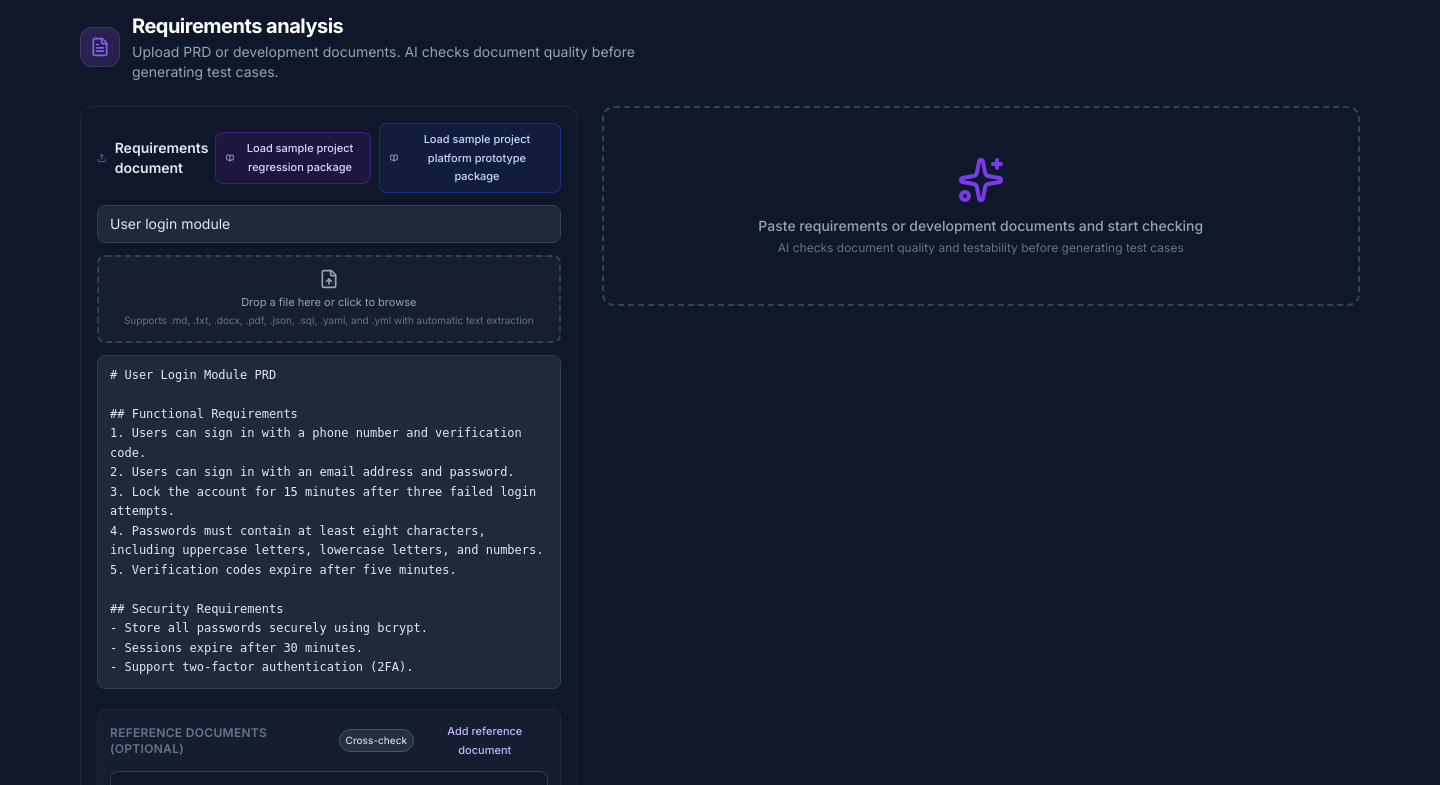
RequirementPage › should load sample_platform platform prototype playbook and show mapping summary
Click the button "Load sample project platform prototype package" at [470, 158], box top-left (379, 123), bottom-right (561, 193)
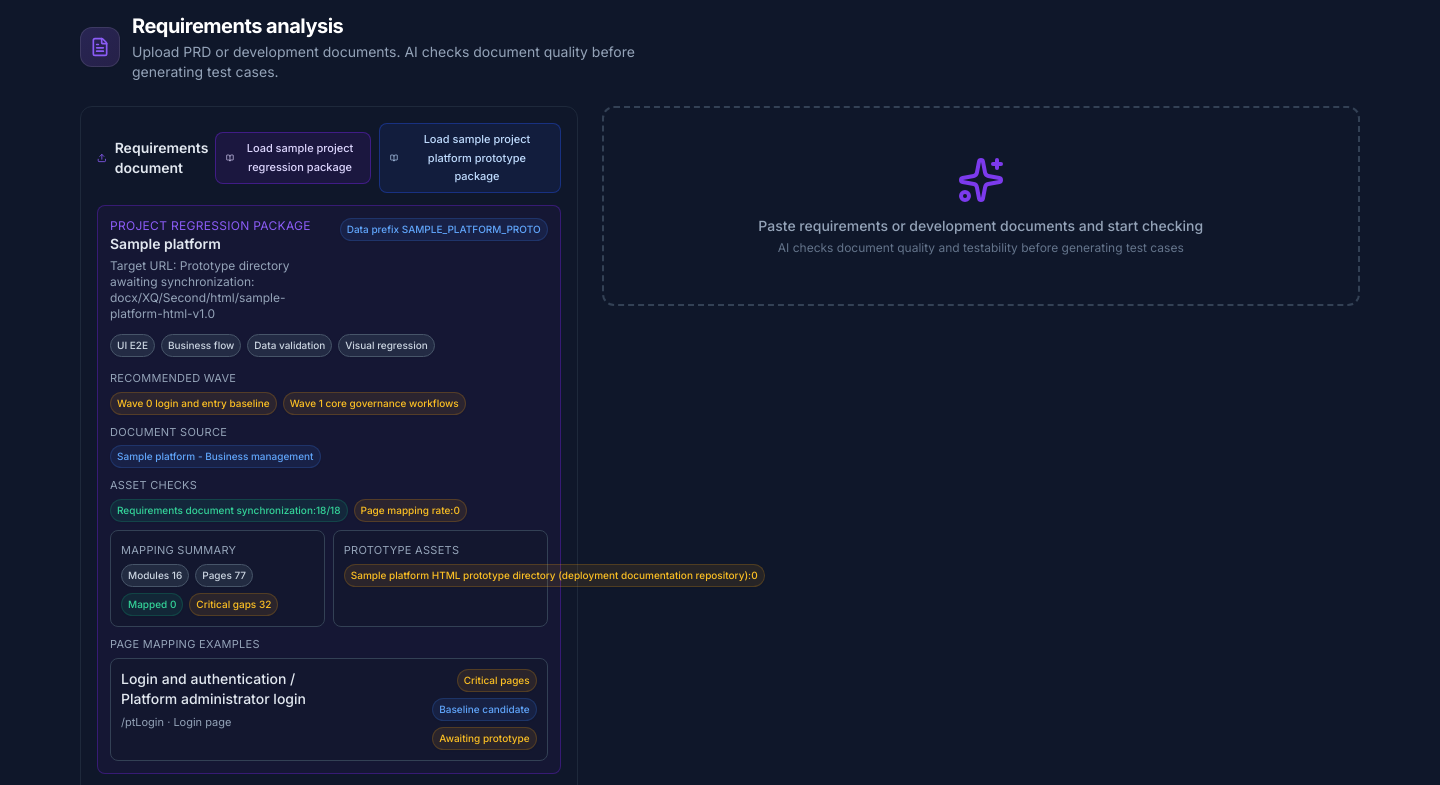
Check: the heading "Sample platform" is shown, box top-left (110, 235), bottom-right (221, 252)
Check: the text "Requirements document synchronization:18/18" is shown, box top-left (110, 499), bottom-right (348, 522)
Check: the text "Page mapping rate:0" is shown, box top-left (354, 499), bottom-right (467, 522)
